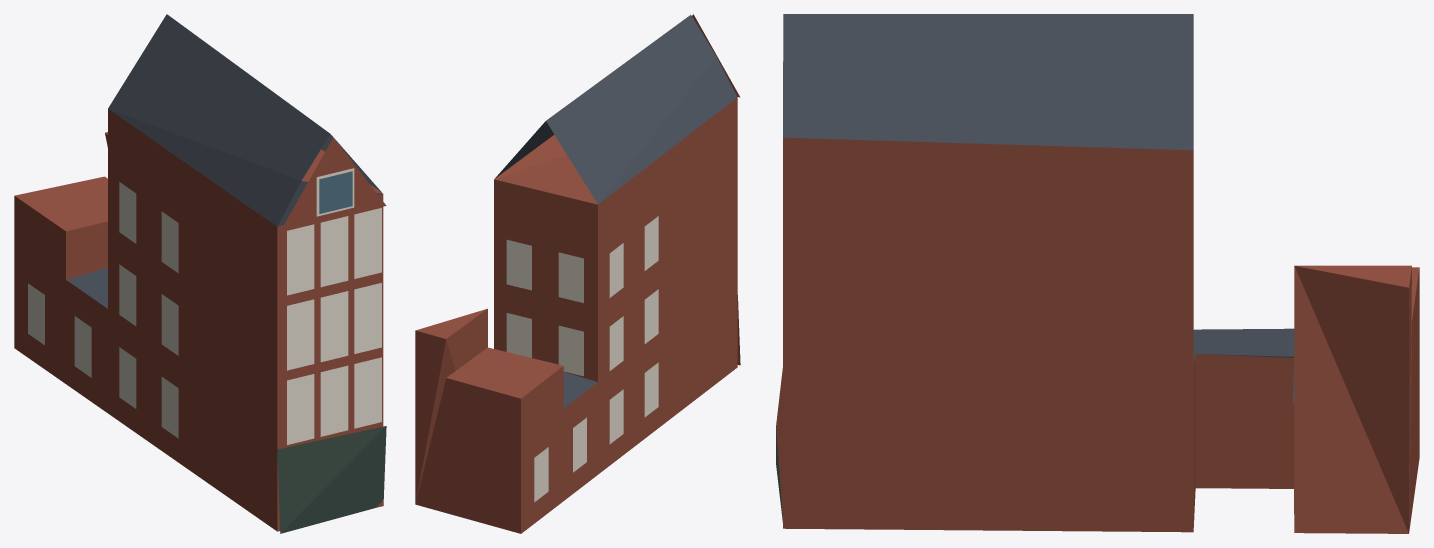
Rendered from hash-marihuana-hemp-museum.lod2.glb.
The picture shows the model from 3 angles, left to right: view 1: azimuth 30°, elevation 25°; view 2: azimuth 150°, elevation 25°; view 3: azimuth 270°, elevation 25°; orthographic projection. The views are drawn at different scales.
Visible parts, largest first — view 1: lod2; view 2: lod2; view 3: lod2.
Boxes of the visible parts, x1,y1,x2,y2 form: lod2: [14, 14, 386, 533]; lod2: [415, 14, 740, 533]; lod2: [776, 14, 1419, 533].
Bounding box in the file's own units: 5.67 × 16.78 × 20.49.
